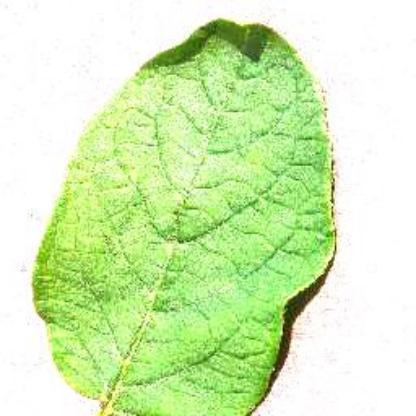Healthy-plant: (26, 15, 346, 415)
